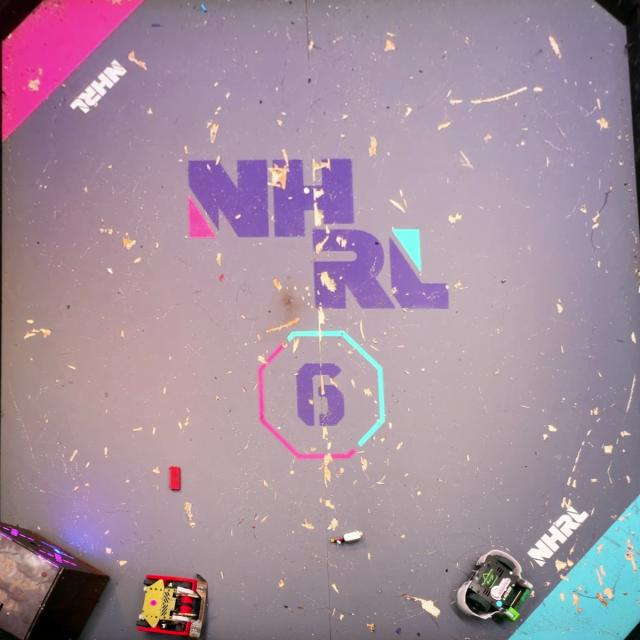housebot: (0, 518, 109, 640)
robot: (454, 548, 538, 626), (136, 570, 209, 640)
